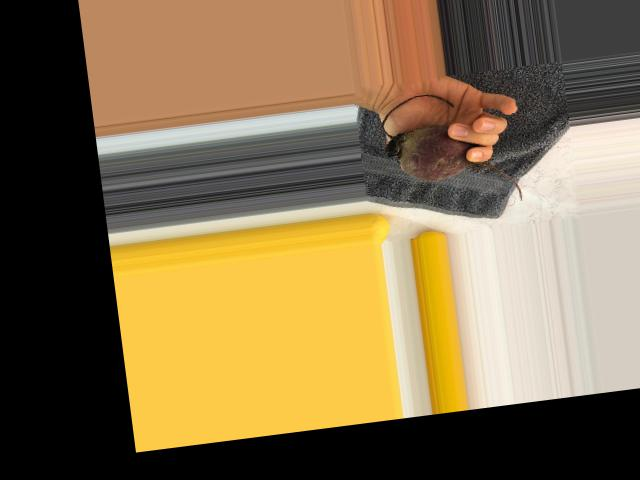beet: (380, 83, 522, 216)
